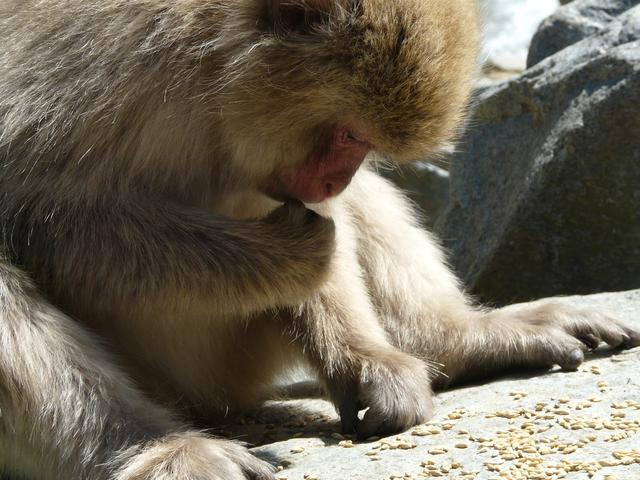monkey: (25, 11, 562, 457)
